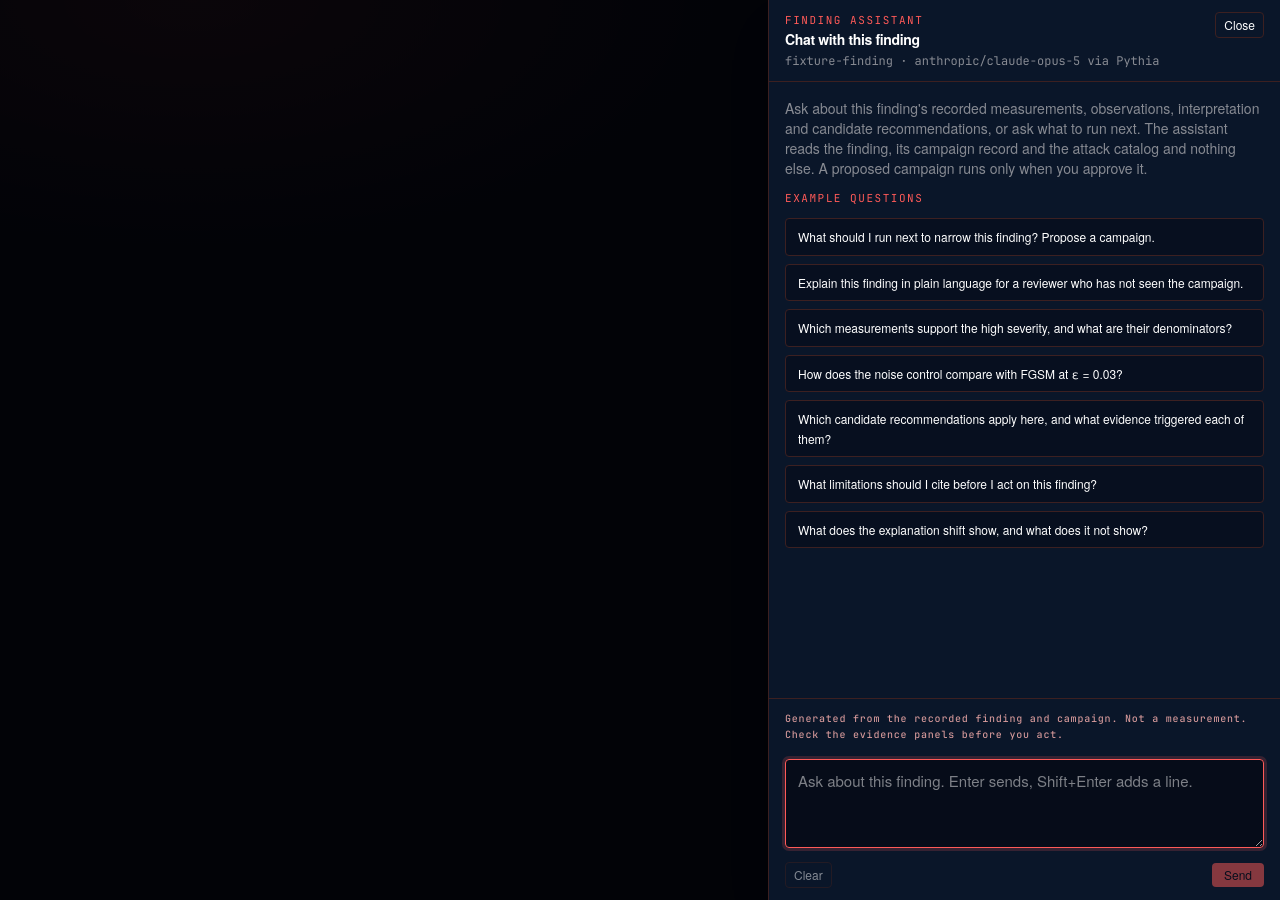
Test: FindingChatPanel › sends an example prompt and streams the answer into the transcript
Expected: the dialog is shown, [768,0,1279,899]
Step 1. Click the button "What limitations should I cite before I act on this finding?" → (1024, 484), box [785,465,1264,502]
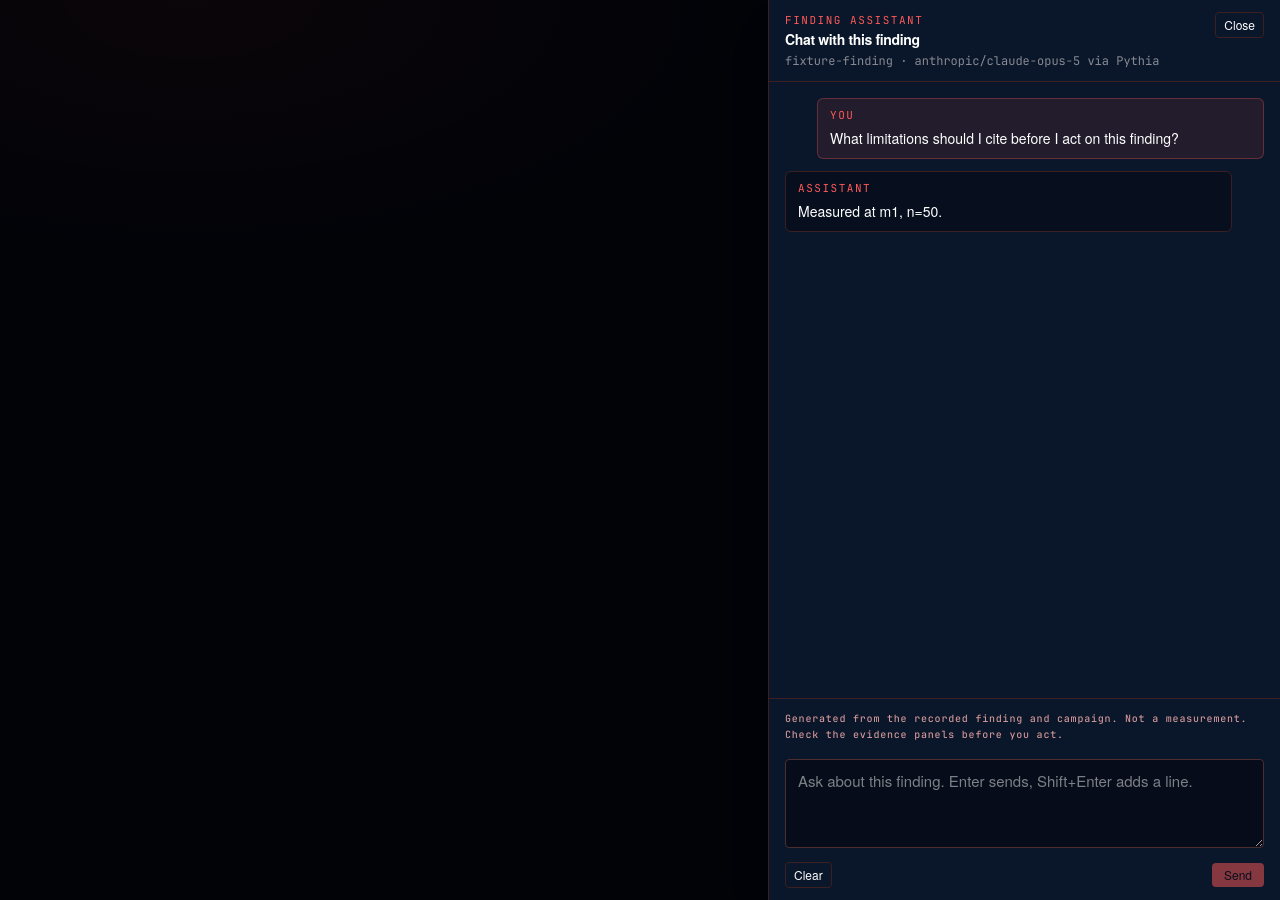
Expected: the text "What limitations should I cite before I act on this finding?" is shown, [830,128,1179,148]
Expected: the text "Measured at m1, n=50." is shown, [798,201,942,221]
